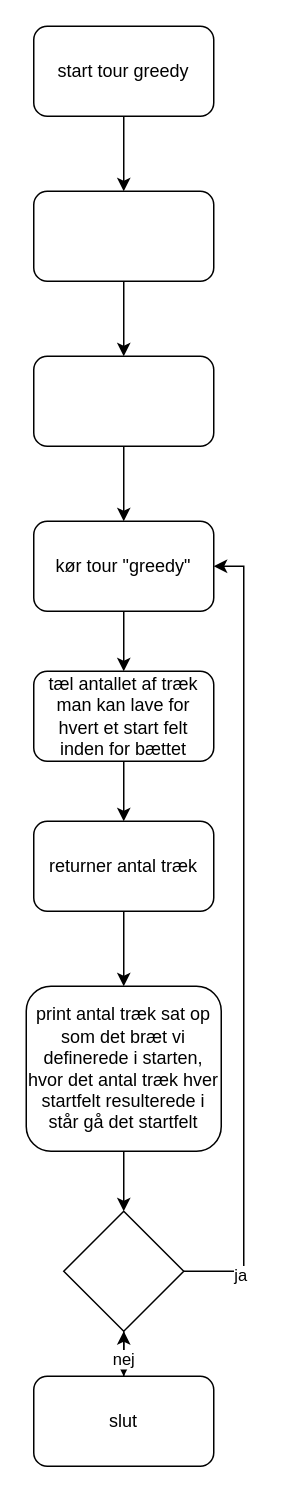
The diagram is 282 pixels wide and 1493 high, and some of its shapes have lost their labels. Each missing label, with the centre of its shape:
definer brættets størrelse(fx 8x8): the point at 123,235
flere startfelter?: the point at 123,1270
opret bræt ud fra given størrelse: the point at 123,400
